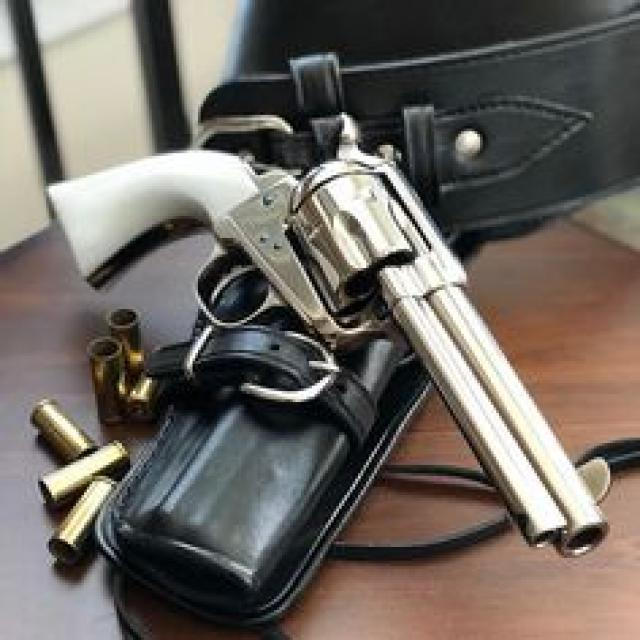revolver: (31, 120, 619, 582)
